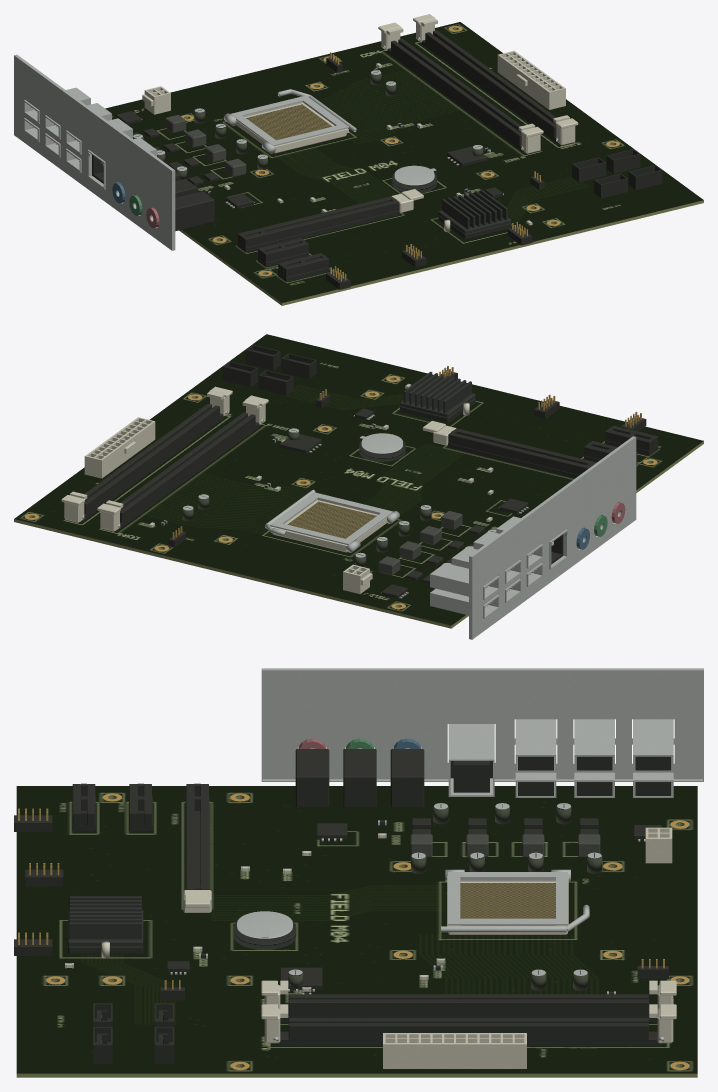
Rendered from PC_Motherboard_LOD0.fbx.
3 renders of one model, top to bottom at view 1: azimuth 30°, elevation 25°; view 2: azimuth 150°, elevation 25°; view 3: azimuth 270°, elevation 25°, orthographic. The views are drawn at different scales.
Visible parts, largest first — view 1: Body_LOD0, IOShield_LOD0, SocketRetention_LOD0, DIMM_0_Latch_Bottom_LOD0, DIMM_1_Latch_Bottom_LOD0; view 2: Body_LOD0, IOShield_LOD0, SocketRetention_LOD0, DIMM_1_Latch_Top_LOD0, DIMM_0_Latch_Top_LOD0, DIMM_0_Latch_Bottom_LOD0; view 3: Body_LOD0, IOShield_LOD0, SocketRetention_LOD0, SocketLever_LOD0, DIMM_1_Latch_Top_LOD0, DIMM_1_Latch_Bottom_LOD0, PCIeRetention_LOD0.
Boxes of the visible parts, x1=… form: Body_LOD0: x1=24, y1=22, x2=703, y2=305; IOShield_LOD0: x1=14, y1=54, x2=175, y2=250; SocketRetention_LOD0: x1=223, y1=95, x2=348, y2=153; DIMM_0_Latch_Bottom_LOD0: x1=518, y1=123, x2=543, y2=153; DIMM_1_Latch_Bottom_LOD0: x1=553, y1=115, x2=578, y2=145; Body_LOD0: x1=14, y1=334, x2=703, y2=628; IOShield_LOD0: x1=469, y1=436, x2=636, y2=639; SocketRetention_LOD0: x1=270, y1=492, x2=399, y2=552; DIMM_1_Latch_Top_LOD0: x1=61, y1=491, x2=87, y2=522; DIMM_0_Latch_Top_LOD0: x1=97, y1=500, x2=123, y2=531; DIMM_0_Latch_Bottom_LOD0: x1=242, y1=395, x2=268, y2=424; Body_LOD0: x1=14, y1=719, x2=697, y2=1077; IOShield_LOD0: x1=261, y1=668, x2=703, y2=781; SocketRetention_LOD0: x1=445, y1=869, x2=570, y2=925; SocketLever_LOD0: x1=441, y1=904, x2=589, y2=932; DIMM_1_Latch_Top_LOD0: x1=649, y1=1004, x2=676, y2=1043; DIMM_1_Latch_Bottom_LOD0: x1=261, y1=1004, x2=288, y2=1043; PCIeRetention_LOD0: x1=183, y1=890, x2=211, y2=912.
Size of the model in its own units: 0.2581 by 0.0441 by 0.247.
